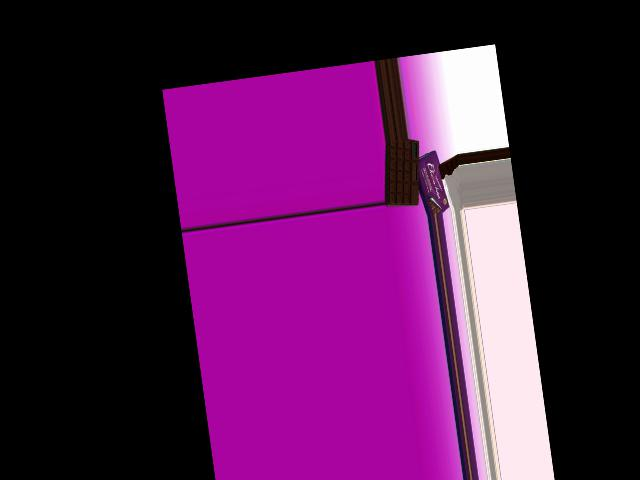chocolate: (376, 139, 428, 208)
